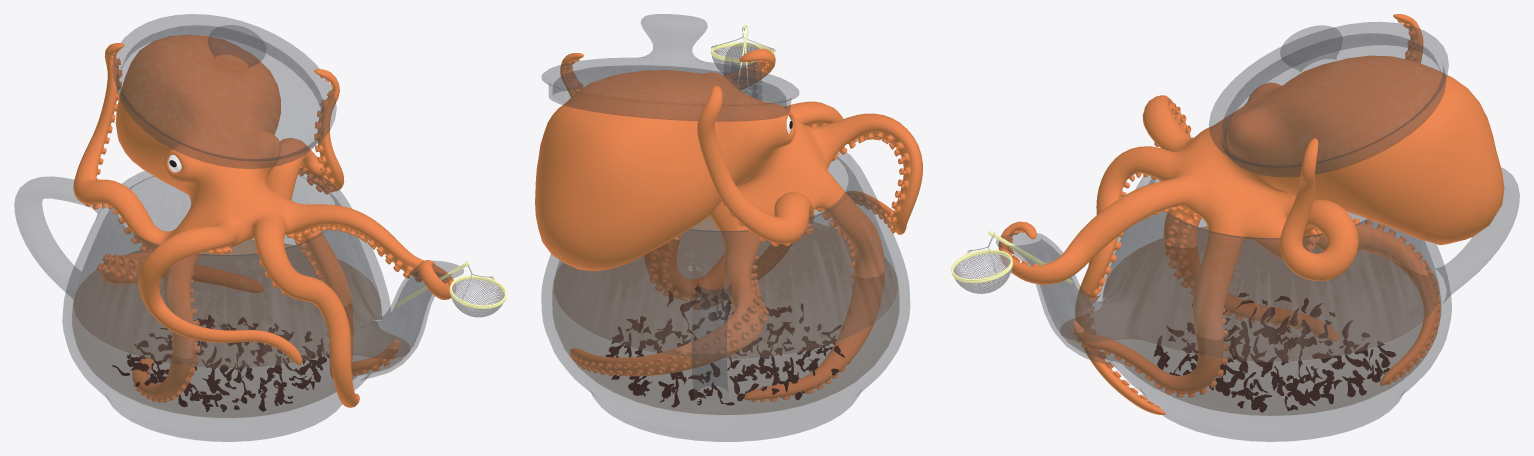
File: octopus-tea.glb
3 views of the same model, side by side, from view 1: azimuth 30°, elevation 25°; view 2: azimuth 150°, elevation 25°; view 3: azimuth 270°, elevation 25° (orthographic). The views are drawn at different scales.
Parts seen in each view (by area): view 1: Object_29, Object_6, Object_27, Object_8, Object_11, Object_15; view 2: Object_29, Object_6, Object_27, Object_8, Object_11, Object_15; view 3: Object_29, Object_6, Object_27, Object_8, Object_11, Object_15.
Boxes of the visible parts, left/top/right/bottom form: Object_29: left=14, top=14, right=463, bottom=441; Object_6: left=73, top=35, right=455, bottom=407; Object_27: left=74, top=239, right=409, bottom=367; Object_8: left=112, top=154, right=329, bottom=411; Object_11: left=451, top=261, right=504, bottom=317; Object_15: left=396, top=261, right=506, bottom=308; Object_29: left=541, top=14, right=909, bottom=441; Object_6: left=535, top=48, right=922, bottom=402; Object_27: left=554, top=216, right=897, bottom=358; Object_8: left=606, top=115, right=844, bottom=407; Object_11: left=711, top=27, right=775, bottom=73; Object_15: left=710, top=24, right=775, bottom=94; Object_29: left=996, top=22, right=1519, bottom=441; Object_6: left=998, top=14, right=1504, bottom=414; Object_27: left=1060, top=226, right=1439, bottom=361; Object_8: left=1154, top=293, right=1395, bottom=412; Object_11: left=953, top=232, right=1012, bottom=293; Object_15: left=951, top=231, right=1072, bottom=283.
Size of what is drawn, in the model's own units: 3.86 by 4.37 by 6.11.
9 materials, 8 textured.
